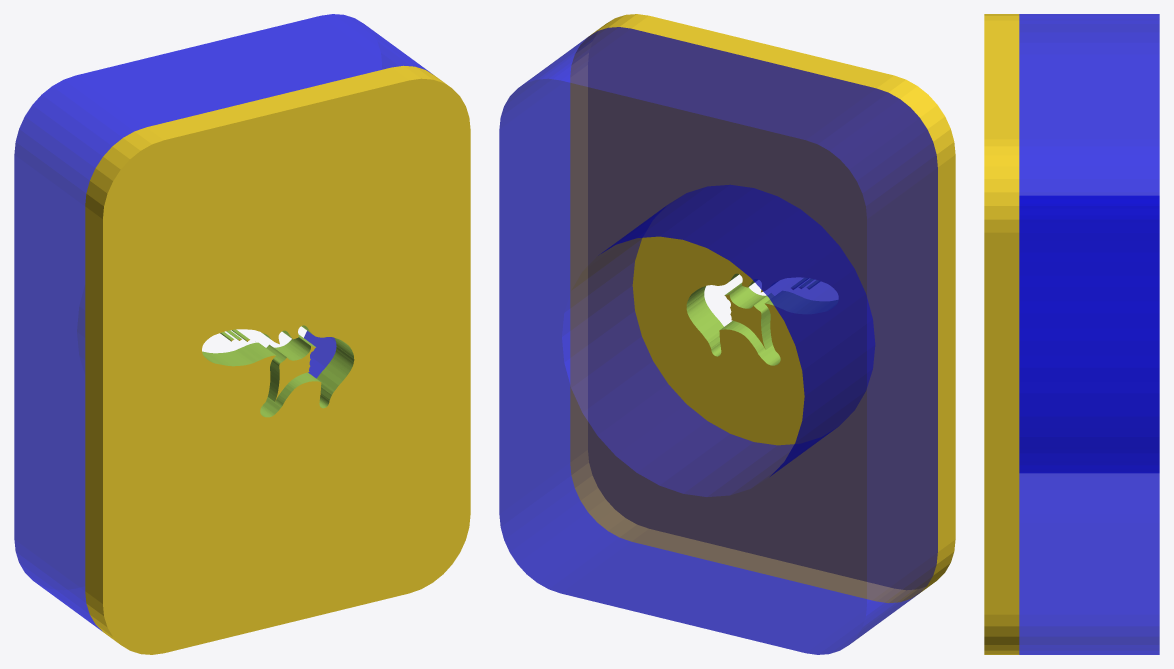
The model's file is stamp--shipped.glb.
The picture shows the model from 3 angles, left to right: view 1: azimuth 30°, elevation 25°; view 2: azimuth 150°, elevation 25°; view 3: azimuth 270°, elevation 25°; orthographic projection.
Bounding box in the file's own units: 0.03 × 0.04 × 0.0125.
